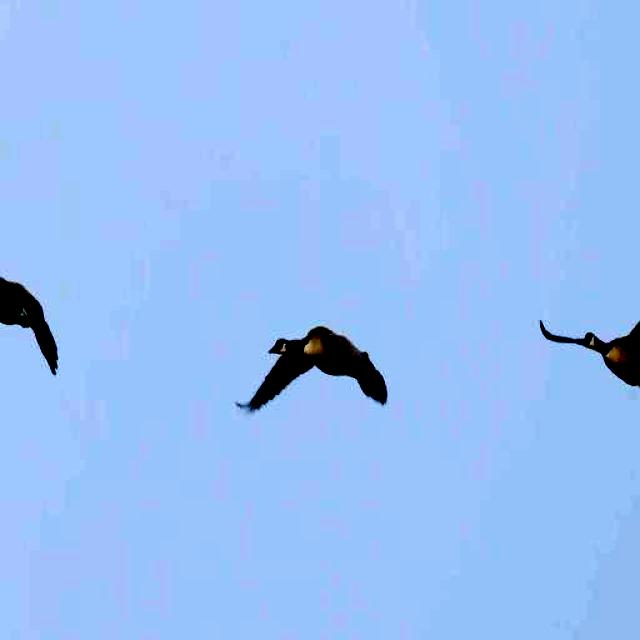airplane: (232, 316, 394, 424), (536, 246, 640, 406), (0, 262, 64, 380)
